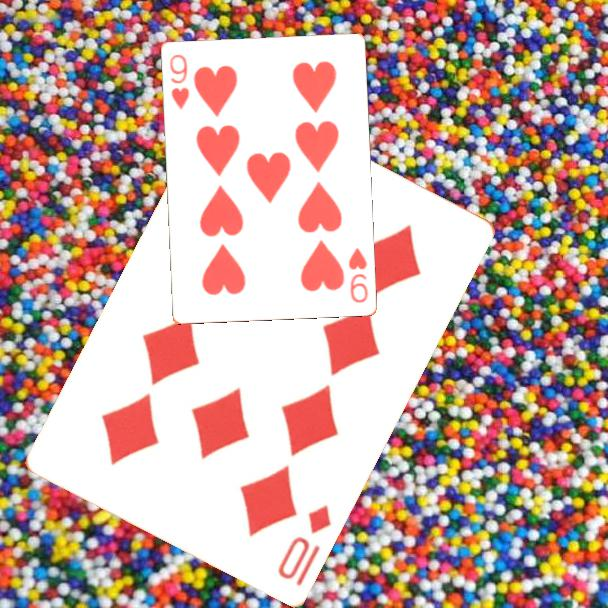d10: (274, 500, 334, 589)
h09: (166, 51, 192, 112), (345, 244, 371, 305)
